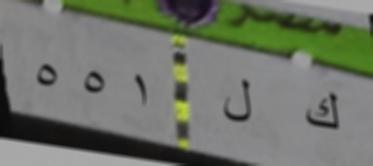1: (124, 64, 156, 116)
5: (29, 57, 64, 99), (78, 64, 108, 105)
kaaf: (298, 82, 345, 140)
laam: (221, 66, 256, 137)
